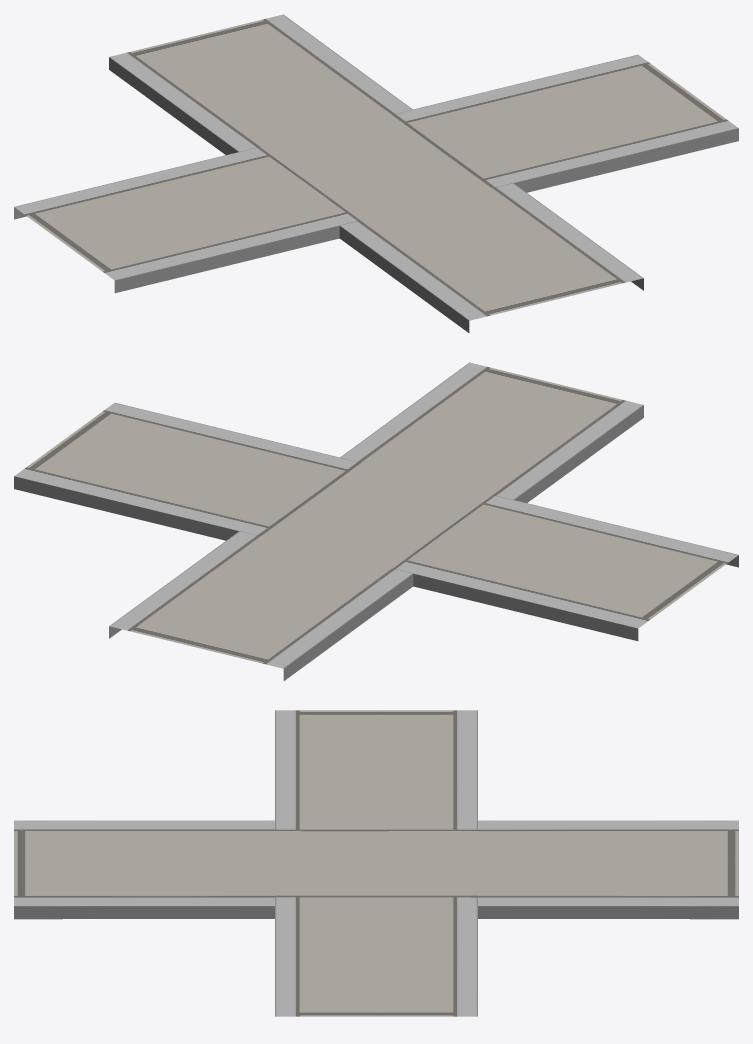
The model's file is path_cross_mesh.fbx.
3 renders of one model, top to bottom at view 1: azimuth 30°, elevation 25°; view 2: azimuth 150°, elevation 25°; view 3: azimuth 270°, elevation 25°, orthographic.
Parts seen in each view (by area): view 1: path_cross_mesh; view 2: path_cross_mesh; view 3: path_cross_mesh.
Part boxes in pixels (<box>): path_cross_mesh: <box>14,14,738,332</box>; path_cross_mesh: <box>14,362,738,680</box>; path_cross_mesh: <box>14,710,738,1016</box>.
Size of the model in its own units: 10 by 0.1948 by 10.
